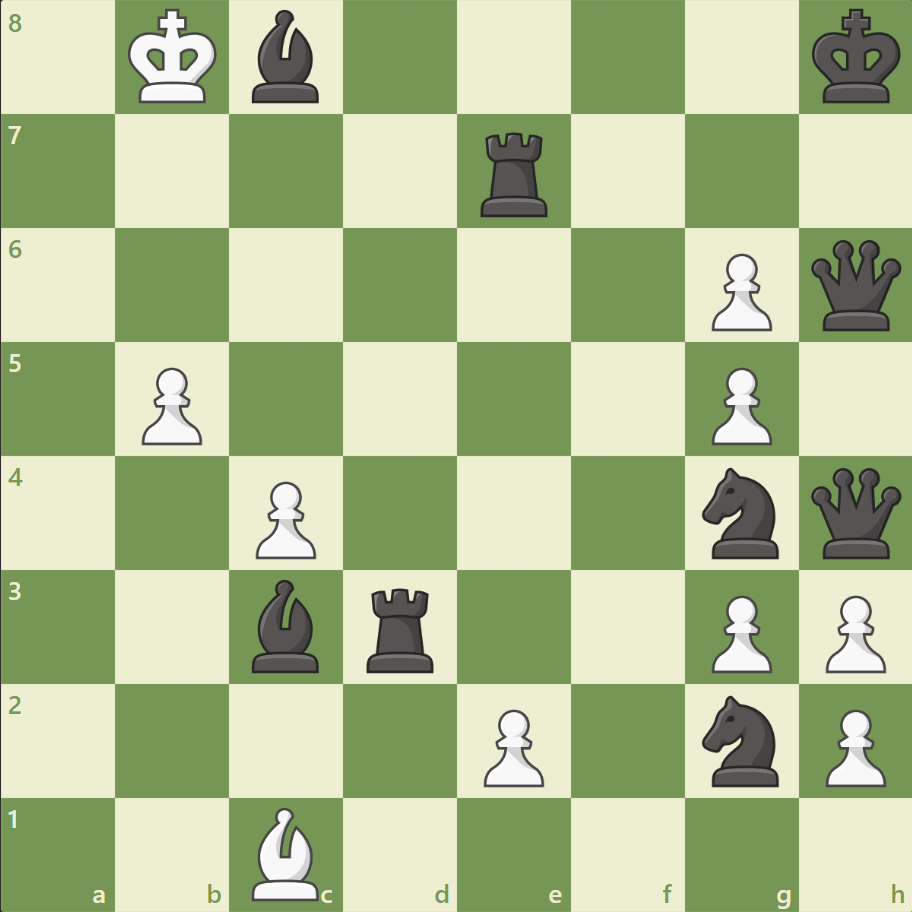B: (244, 801, 328, 904)
K: (124, 4, 224, 112)
P: (701, 246, 776, 337), (133, 359, 208, 450), (701, 359, 776, 450), (247, 473, 322, 564), (701, 586, 776, 677), (474, 700, 549, 791), (815, 586, 889, 677), (815, 700, 889, 791)
b: (244, 6, 328, 109), (244, 574, 328, 676)
k: (806, 4, 906, 112)
n: (692, 461, 789, 564), (692, 688, 789, 791)
q: (805, 236, 904, 335), (805, 463, 904, 562)
r: (473, 125, 556, 222), (360, 579, 442, 676)
